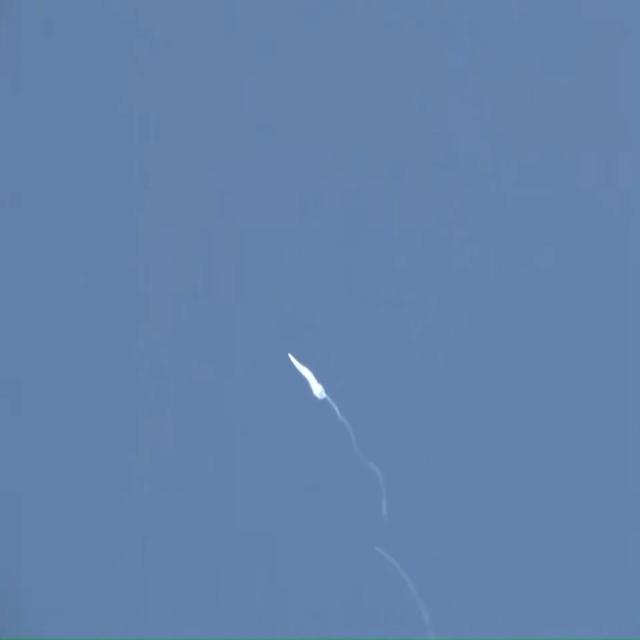Rocket: (288, 352, 290, 354)
